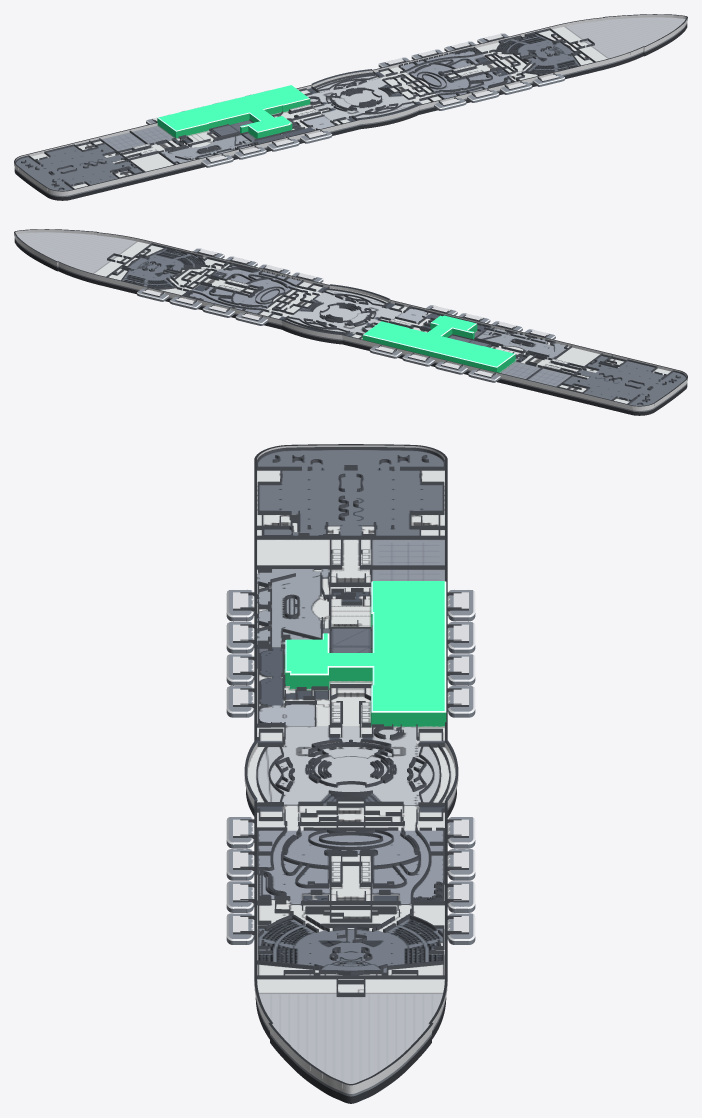
The model's file is deck6_arlecchino_highlight.glb.
The picture shows the model from 3 angles, top to bottom: view 1: azimuth 30°, elevation 25°; view 2: azimuth 150°, elevation 25°; view 3: azimuth 270°, elevation 25°; orthographic projection. The views are drawn at different scales.
Parts seen in each view (by area): view 1: Deck6_Main_Floor_Slab, Deck6_Interior_Walls_Monochrome, Deck6_Arlecchino_Embossed_Highlight_Block, Deck6_Outer_Hull_Bulwark_Wall, Deck6_ZoneRelief_Il_Meneghino, Deck6_ZoneRelief_Colosseo, Deck6_Hull_Plinth_Obsidian, Deck6_ZoneRelief_Mastroianni_Bar, Deck6_ZoneRelief_Sanremo_Theatre, Deck6_ZoneRelief_Jazz_Club, Deck6_Hull_Waterline_Titanium; view 2: Deck6_Interior_Walls_Monochrome, Deck6_Main_Floor_Slab, Deck6_Outer_Hull_Bulwark_Wall, Deck6_Arlecchino_Embossed_Highlight_Block, Deck6_ZoneRelief_Il_Meneghino, Deck6_ZoneRelief_Colosseo, Deck6_Hull_Plinth_Obsidian, Deck6_ZoneRelief_Mastroianni_Bar, Deck6_ZoneRelief_Sanremo_Theatre, Deck6_ZoneRelief_Jazz_Club, Deck6_Hull_Waterline_Titanium; view 3: Deck6_Main_Floor_Slab, Deck6_Interior_Walls_Monochrome, Deck6_Arlecchino_Embossed_Highlight_Block, Deck6_ZoneRelief_Il_Meneghino, Deck6_ZoneRelief_Colosseo, Deck6_ZoneRelief_Mastroianni_Bar, Deck6_ZoneRelief_Sanremo_Theatre, Deck6_Outer_Hull_Bulwark_Wall, Deck6_ZoneRelief_Jazz_Club, Deck6_Hull_Plinth_Obsidian, Deck6_ZoneRelief_Photo_Store, Deck6_ZoneRelief_My_Tours (+1 smaller).
Boxes of the visible parts, left/top/right/bottom form: Deck6_Main_Floor_Slab: left=14, top=17, right=687, bottom=195; Deck6_Interior_Walls_Monochrome: left=15, top=28, right=595, bottom=190; Deck6_Arlecchino_Embossed_Highlight_Block: left=157, top=85, right=310, bottom=138; Deck6_Outer_Hull_Bulwark_Wall: left=14, top=14, right=687, bottom=194; Deck6_ZoneRelief_Il_Meneghino: left=16, top=144, right=141, bottom=190; Deck6_ZoneRelief_Colosseo: left=307, top=75, right=414, bottom=120; Deck6_Hull_Plinth_Obsidian: left=14, top=24, right=687, bottom=200; Deck6_ZoneRelief_Mastroianni_Bar: left=400, top=50, right=512, bottom=98; Deck6_ZoneRelief_Sanremo_Theatre: left=498, top=33, right=579, bottom=74; Deck6_ZoneRelief_Jazz_Club: left=161, top=135, right=252, bottom=162; Deck6_Hull_Waterline_Titanium: left=14, top=23, right=687, bottom=197; Deck6_Interior_Walls_Monochrome: left=106, top=243, right=686, bottom=405; Deck6_Main_Floor_Slab: left=14, top=232, right=687, bottom=410; Deck6_Outer_Hull_Bulwark_Wall: left=14, top=229, right=687, bottom=409; Deck6_Arlecchino_Embossed_Highlight_Block: left=362, top=315, right=515, bottom=372; Deck6_ZoneRelief_Il_Meneghino: left=564, top=356, right=685, bottom=405; Deck6_ZoneRelief_Colosseo: left=288, top=290, right=401, bottom=333; Deck6_Hull_Plinth_Obsidian: left=14, top=239, right=687, bottom=415; Deck6_ZoneRelief_Mastroianni_Bar: left=190, top=265, right=301, bottom=313; Deck6_ZoneRelief_Sanremo_Theatre: left=122, top=248, right=203, bottom=288; Deck6_ZoneRelief_Jazz_Club: left=477, top=328, right=565, bottom=359; Deck6_Hull_Waterline_Titanium: left=14, top=238, right=687, bottom=412; Deck6_Main_Floor_Slab: left=247, top=470, right=455, bottom=1093; Deck6_Interior_Walls_Monochrome: left=256, top=447, right=450, bottom=996; Deck6_Arlecchino_Embossed_Highlight_Block: left=285, top=581, right=446, bottom=726; Deck6_ZoneRelief_Il_Meneghino: left=258, top=450, right=443, bottom=535; Deck6_ZoneRelief_Colosseo: left=257, top=726, right=439, bottom=805; Deck6_ZoneRelief_Mastroianni_Bar: left=258, top=830, right=443, bottom=904; Deck6_ZoneRelief_Sanremo_Theatre: left=258, top=918, right=443, bottom=974; Deck6_Outer_Hull_Bulwark_Wall: left=244, top=444, right=458, bottom=1090; Deck6_ZoneRelief_Jazz_Club: left=257, top=569, right=329, bottom=647; Deck6_Hull_Plinth_Obsidian: left=246, top=788, right=456, bottom=1103; Deck6_ZoneRelief_Photo_Store: left=259, top=647, right=283, bottom=706; Deck6_ZoneRelief_My_Tours: left=259, top=704, right=314, bottom=726.
Size of the model in its own units: 67.45 by 1.46 by 11.05.
18 materials, 2 textured.
